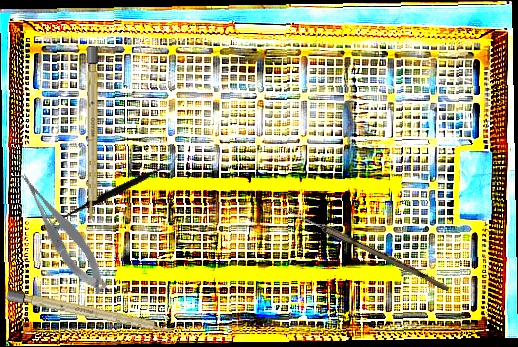Micro Scissor: (14, 161, 113, 303)
Scalpel Handle: (5, 289, 178, 336), (87, 47, 98, 222)
Spatula Surgical: (47, 117, 181, 270)
Surgical Spoon: (276, 203, 452, 292)
